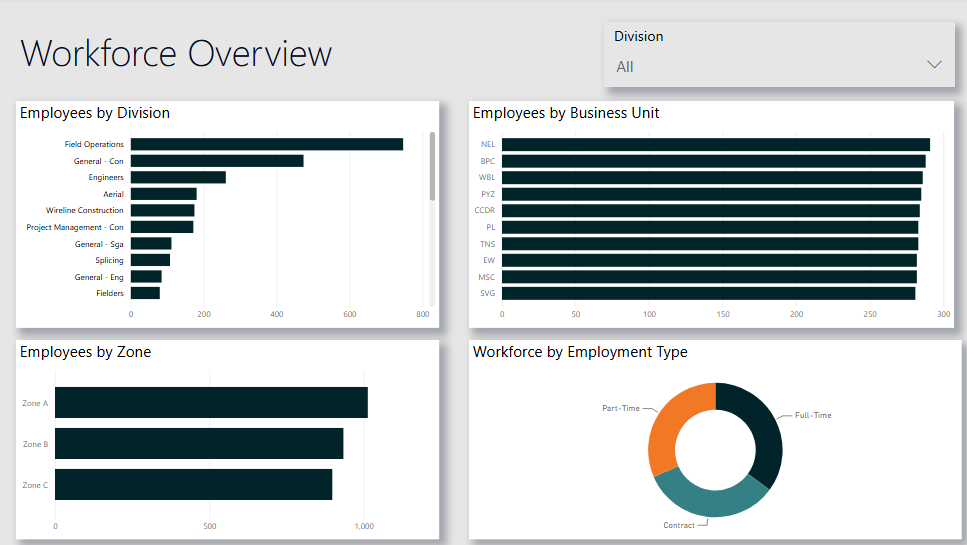

The page's visual inventory and layout, read from the dashboard file:
{"tool":"powerbi","page":{"name":"Workforce Overview","canvas":[1280,720],"ordinal":1},"visuals":[{"type":"clusteredBarChart","title":"Employees by Division","fields":{"Category":["Division.Division"],"Y":["Table1.Count_Employee"]},"box":[31.7,134.2,554.1,297.3],"z":0},{"type":"clusteredBarChart","title":"Employees by Business Unit","fields":{"Category":["BusinessUnit.BusinessUnit"],"Y":["Table1.Count_Employee"]},"box":[624.8,134.2,634.9,297.3],"z":1000},{"type":"donutChart","title":"Workforce by Employment Type","fields":{"Category":["EmployeeType.EmployeeType"],"Y":["Table1.Count_Employee"]},"box":[624.8,447.4,645.1,261.2],"z":2000},{"type":"clusteredBarChart","title":"Employees by Zone","fields":{"Y":["Table1.Count_Employee"],"Category":["payZone.PayZone"]},"box":[31.7,447.4,554.1,261.2],"z":3000},{"type":"slicer","fields":{"Values":["Division.Division"]},"box":[800.9,31.7,458.9,85.1],"z":4000},{"type":"textbox","box":[31.7,31.7,509.4,80.8],"z":5000}]}

Visuals, with their boxes in screenshot pixels (x1, y1, x2, y2), scaled from the page's 1280x720 canvas onto the 967x545 screenshot:
"Employees by Division" clusteredBarChart: detection(24, 102, 443, 327)
"Employees by Business Unit" clusteredBarChart: detection(472, 102, 952, 327)
"Workforce by Employment Type" donutChart: detection(472, 339, 959, 536)
"Employees by Zone" clusteredBarChart: detection(24, 339, 443, 536)
slicer - Division.Division: detection(605, 24, 952, 88)
textbox: detection(24, 24, 409, 85)
